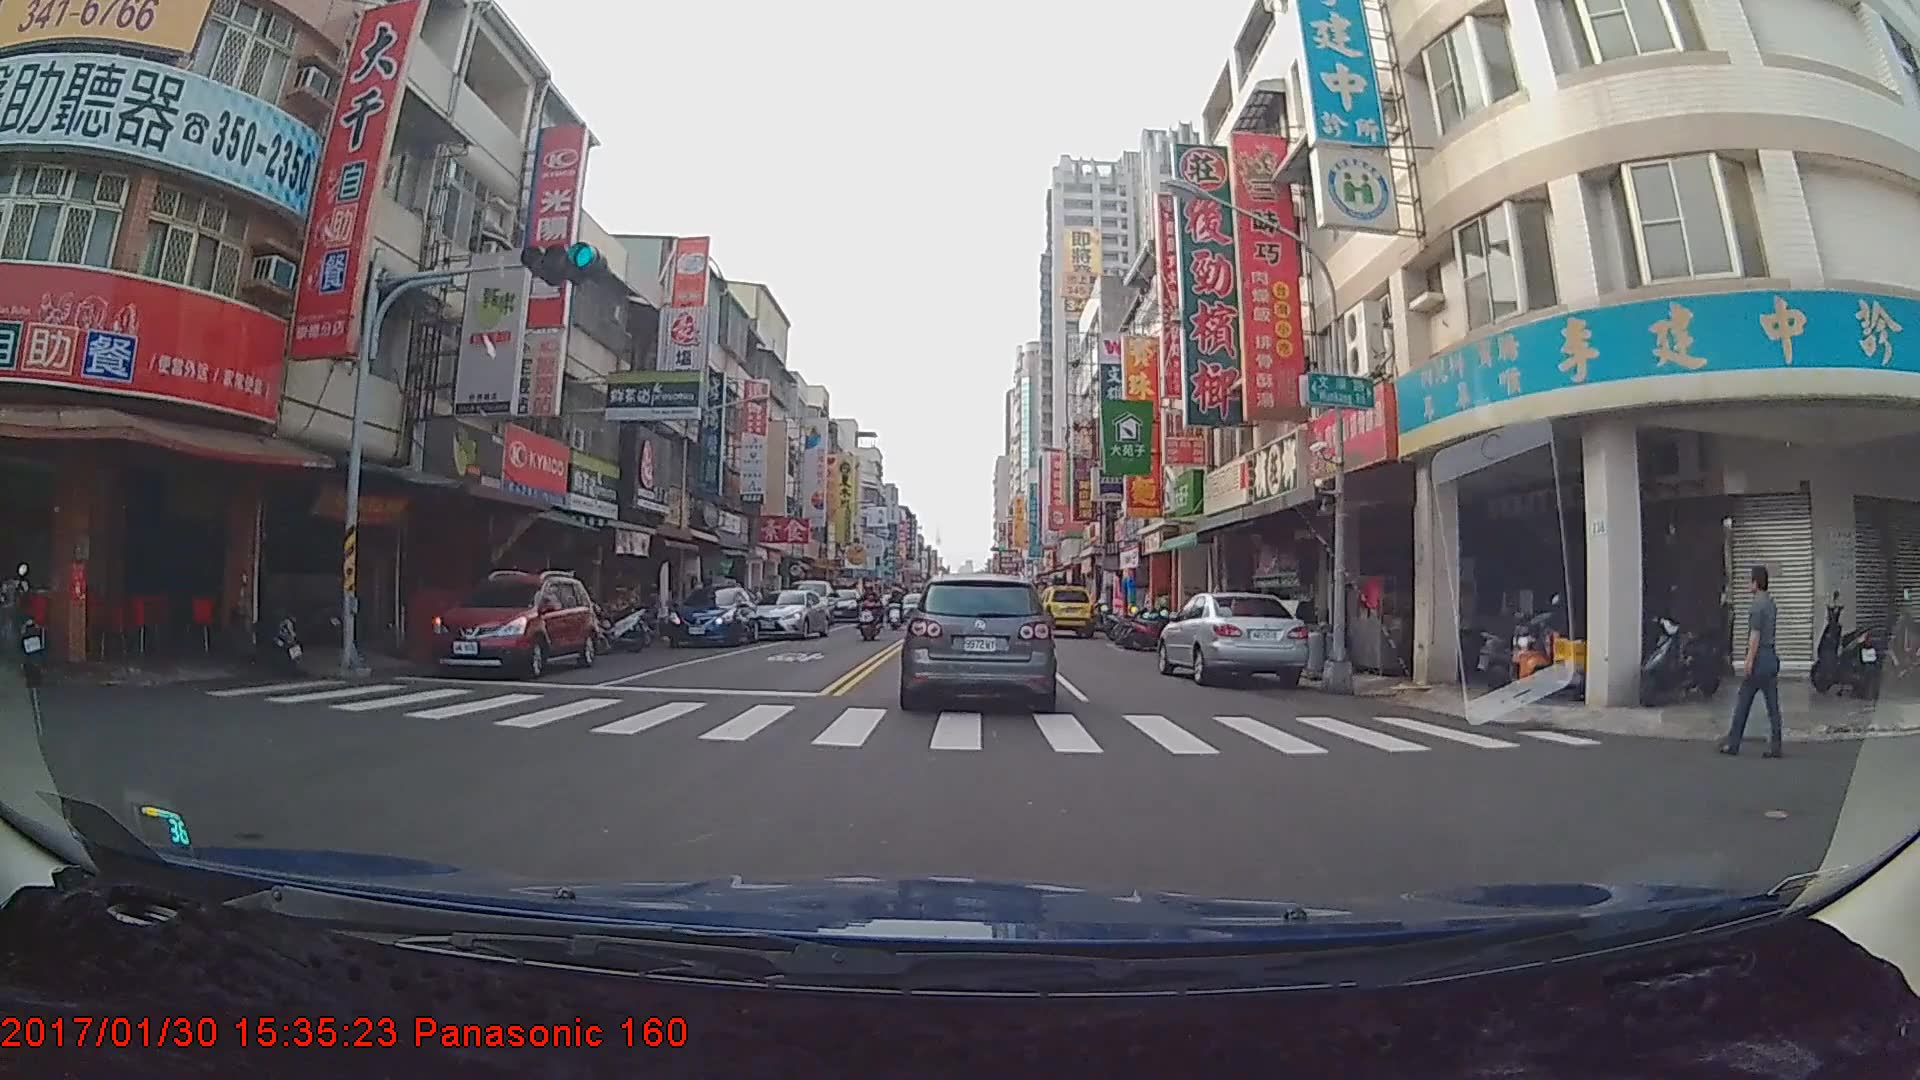pedestrian: (1719, 562, 1794, 764)
rider: (863, 579, 889, 638)
vehicle: (903, 573, 1052, 709), (430, 564, 598, 677), (1158, 590, 1312, 687), (664, 583, 759, 646), (745, 587, 830, 638), (1038, 584, 1094, 636)
